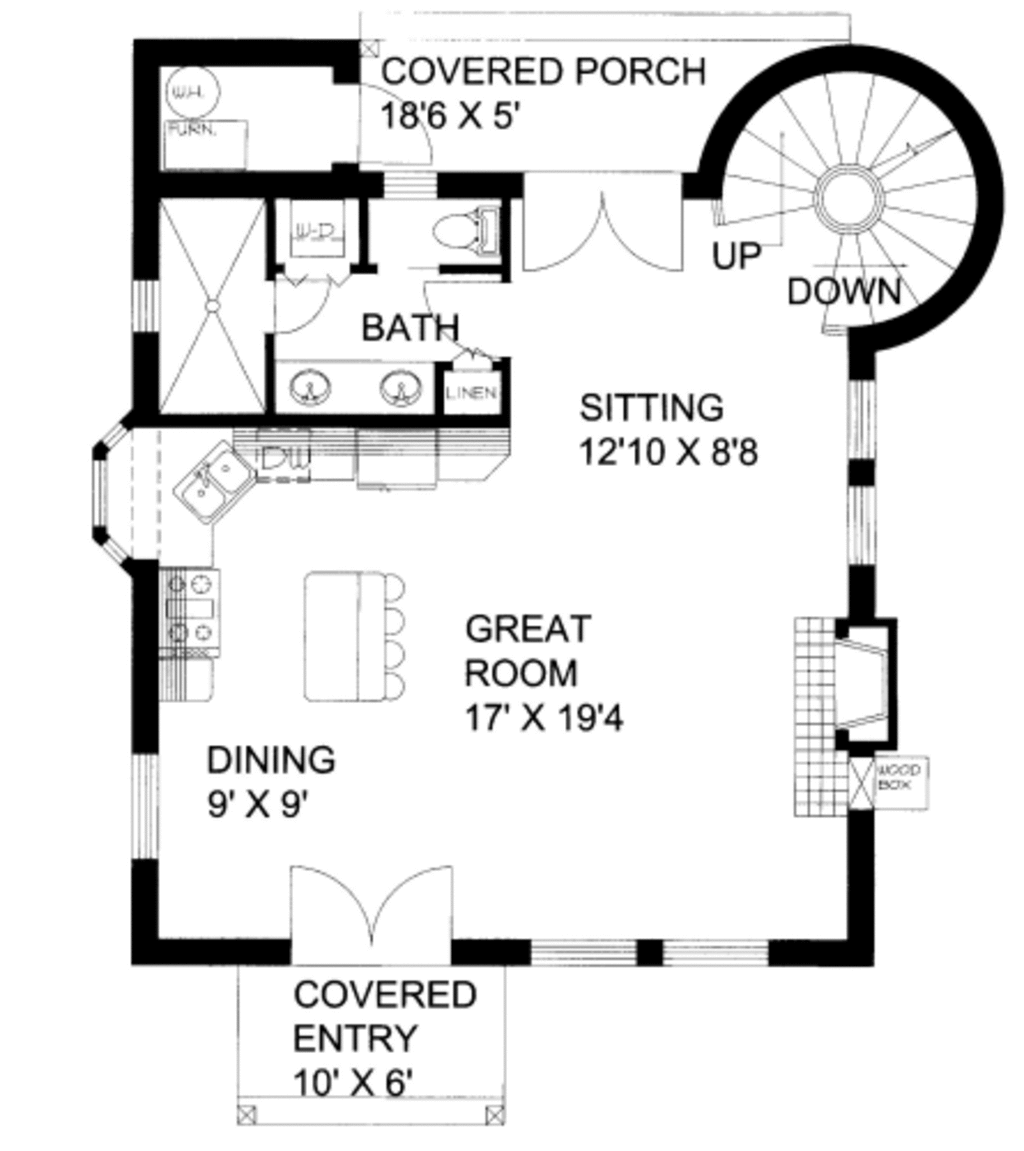door: (511, 158, 693, 280), (288, 862, 456, 973), (415, 271, 513, 355), (343, 80, 436, 162), (265, 274, 340, 335)
kitchen_bar: (290, 544, 415, 724)
large_sink: (431, 192, 500, 262)
small_sink: (275, 356, 436, 423)
stairs: (711, 42, 997, 337)
twin_sink: (170, 440, 270, 535)
window: (529, 931, 776, 976), (88, 398, 129, 580), (845, 383, 883, 565), (131, 755, 156, 855)
